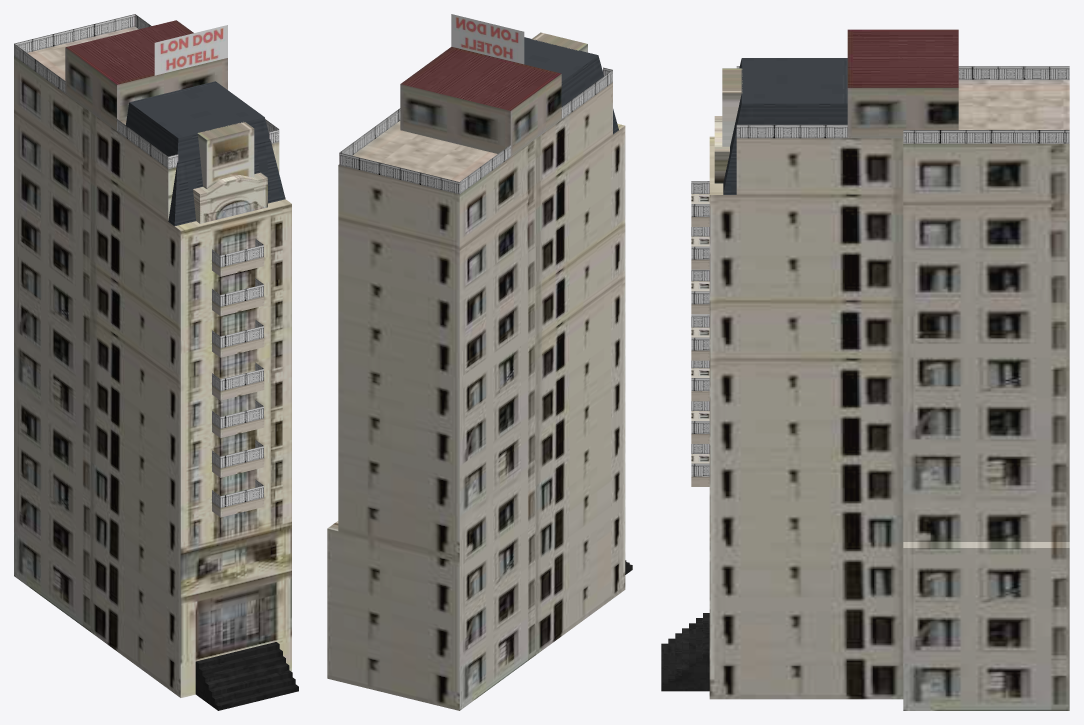
3 renders of one model, left to right at view 1: azimuth 30°, elevation 25°; view 2: azimuth 150°, elevation 25°; view 3: azimuth 270°, elevation 25°, orthographic. The views are drawn at different scales.
Parts seen in each view (by area): view 1: HN888___London_Hotel_Hanoi; view 2: HN888___London_Hotel_Hanoi; view 3: HN888___London_Hotel_Hanoi.
Boxes of the visible parts, <box> form: HN888___London_Hotel_Hanoi: <box>14,14,298,710</box>; HN888___London_Hotel_Hanoi: <box>327,14,632,710</box>; HN888___London_Hotel_Hanoi: <box>661,29,1069,710</box>.
Bounding box in the file's own units: 12 × 51.56 × 29.5.
1 material, 1 textured.
